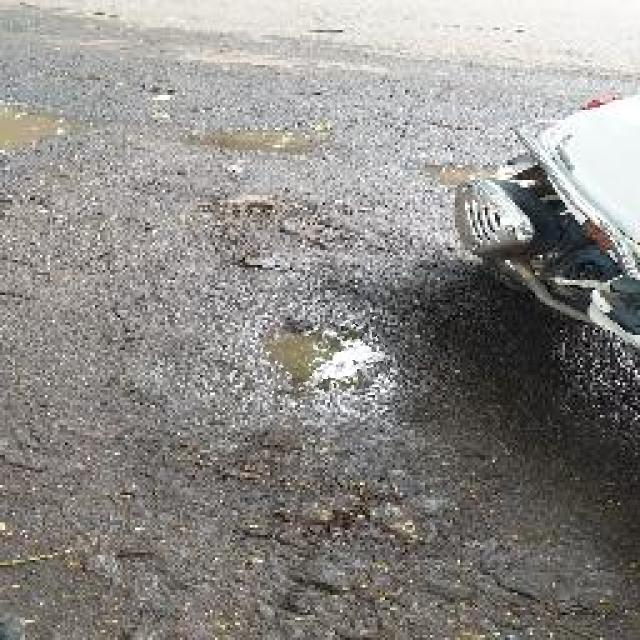puddle: (260, 319, 389, 403)
